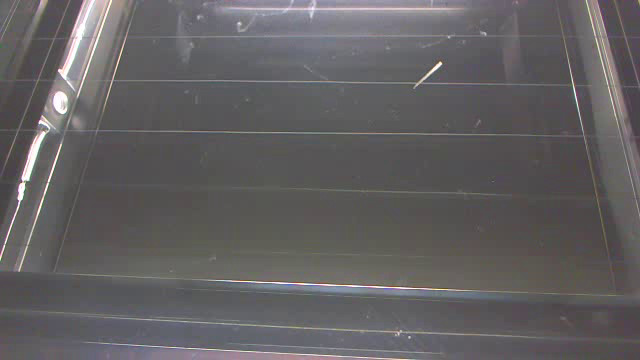alpha: (415, 61, 449, 94)
